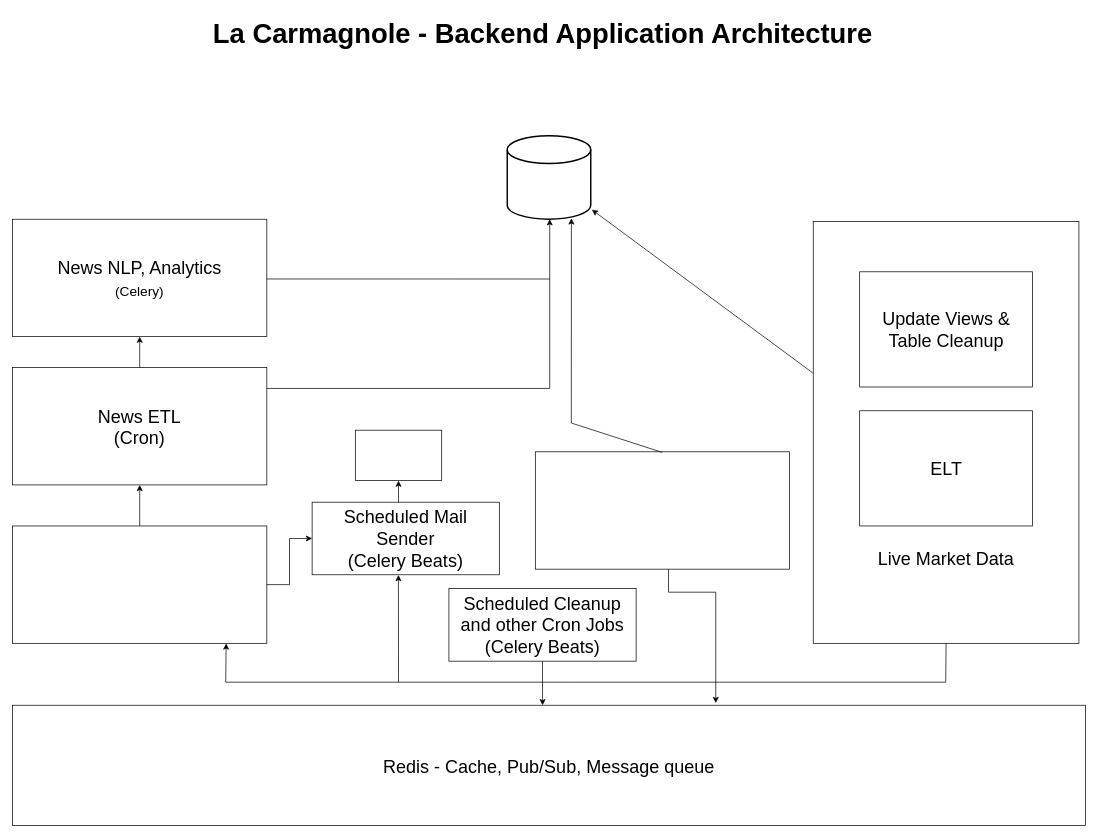
The diagram is 1098 pixels wide and 838 high, and some of its shapes have lost their labels. The box of each missing label's shape, as (x1, y1, x2, y2) in pixels:
Django/Uvicorn: (12, 525, 267, 643)
ML-based Top Articles Finder: (535, 451, 790, 569)
Postgres: (506, 135, 591, 220)
SES: (355, 429, 442, 481)
